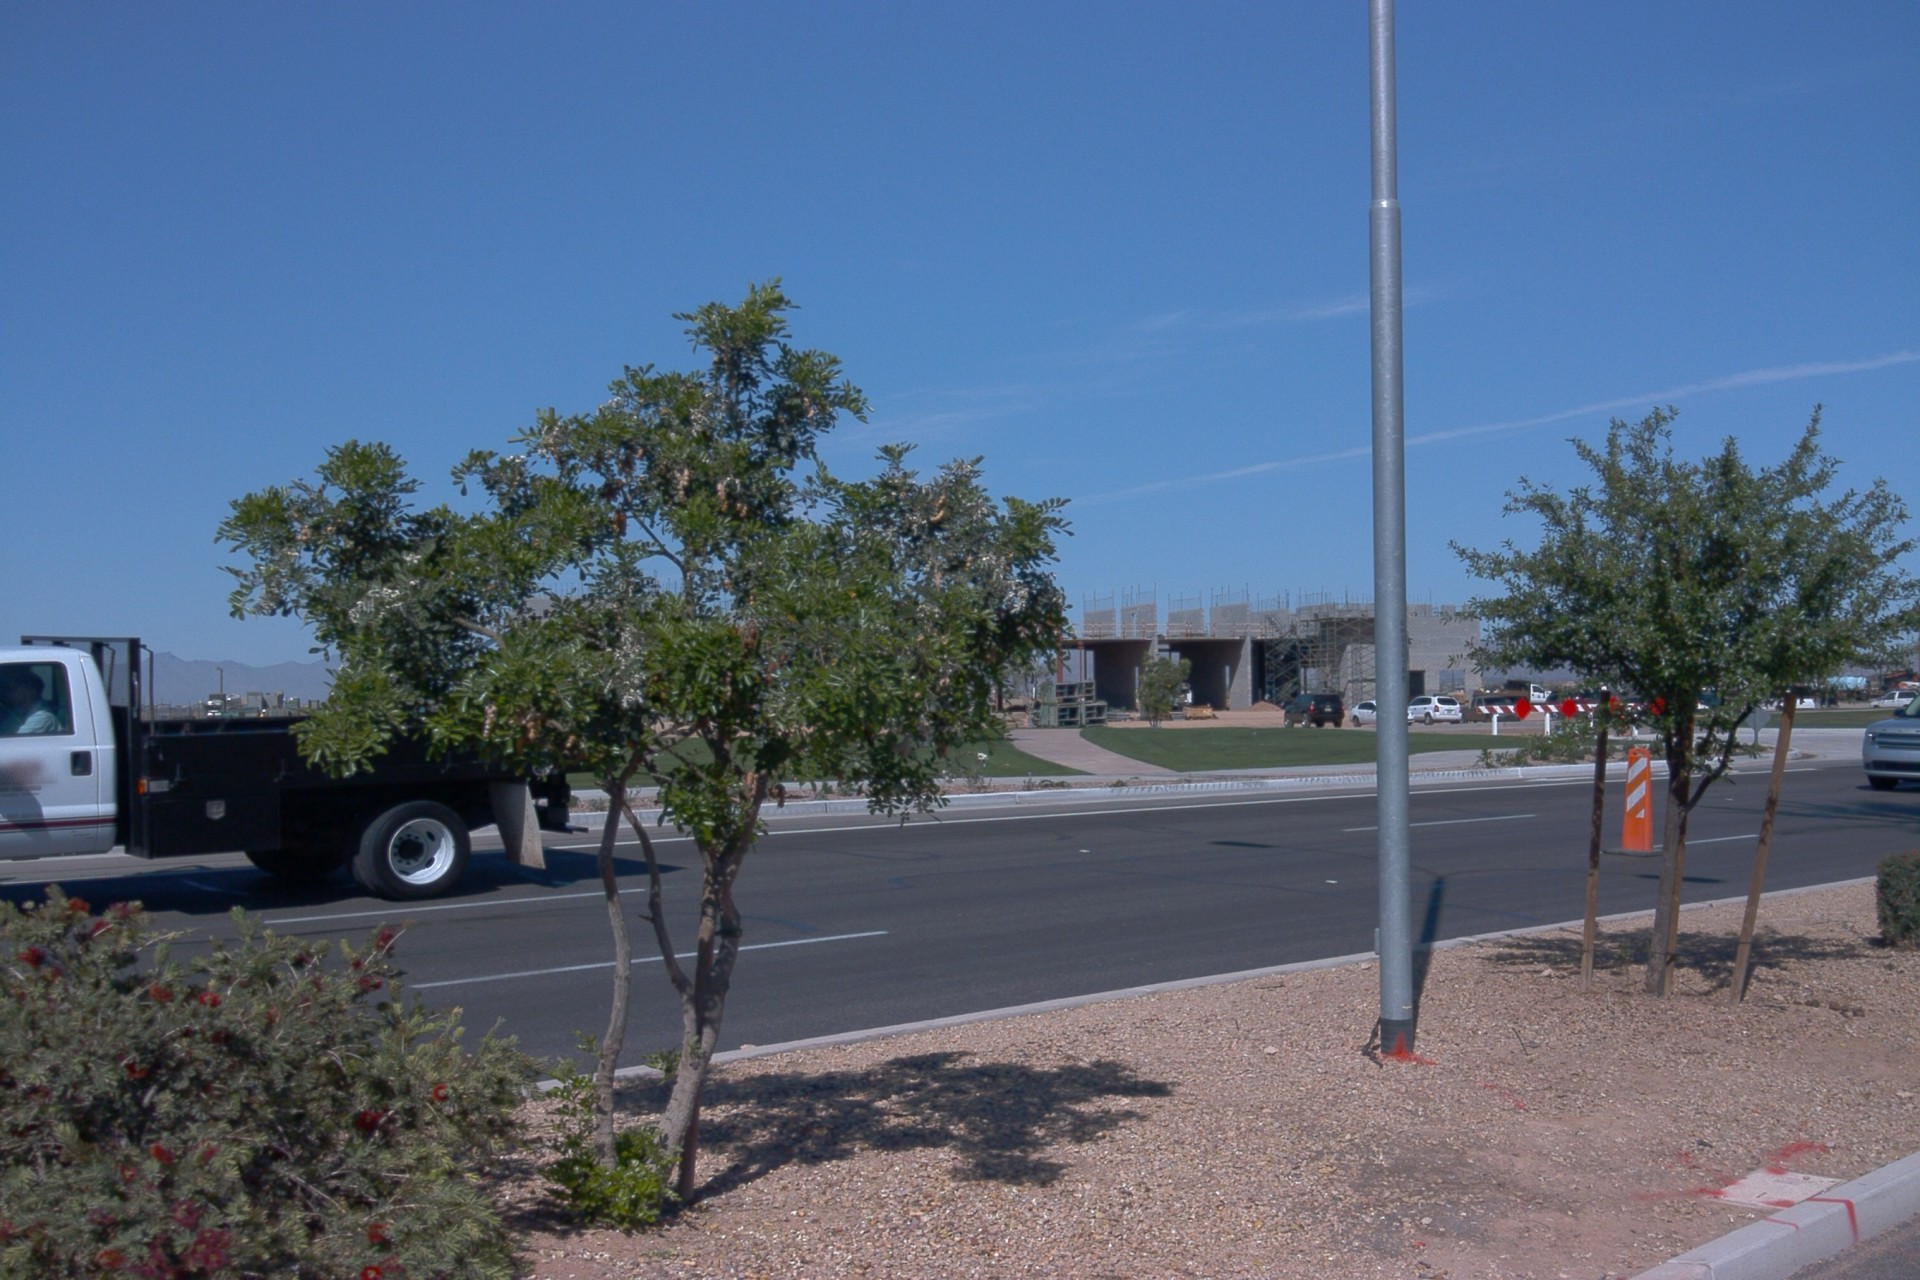TYPE_PEDESTRIAN: (259, 706, 270, 720)
TYPE_VEHICLE: (0, 633, 621, 907), (1856, 691, 1917, 793), (1281, 690, 1343, 732), (1349, 698, 1415, 732), (1702, 676, 1769, 704), (1473, 682, 1553, 705), (1407, 695, 1464, 727), (1158, 681, 1198, 717), (1813, 680, 1872, 702), (1761, 688, 1822, 709), (1548, 690, 1608, 707), (1872, 690, 1920, 707), (1690, 689, 1731, 708), (1773, 688, 1814, 703), (1476, 696, 1504, 715), (1692, 700, 1708, 714)
